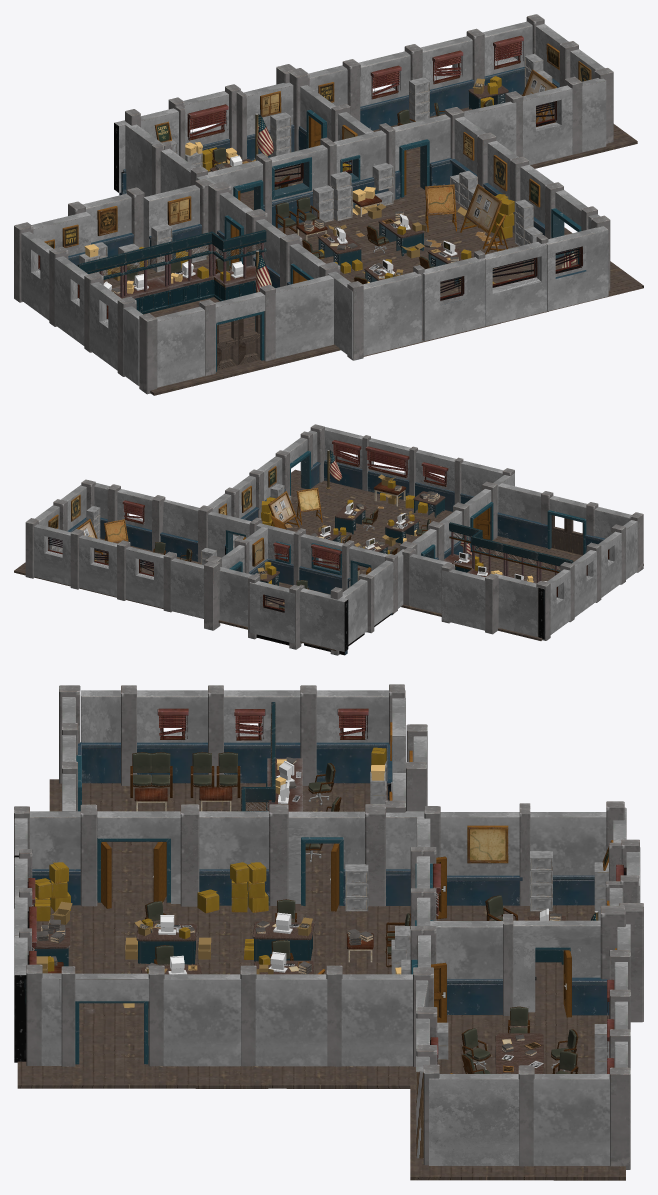
Rendered from station.opt.glb.
3 renders of one model, top to bottom at view 1: azimuth 30°, elevation 25°; view 2: azimuth 150°, elevation 25°; view 3: azimuth 270°, elevation 25°, orthographic. The views are drawn at different scales.
Visible parts, largest first — view 1: Station; view 2: Station; view 3: Station.
Boxes of the visible parts, x1,y1,x2,y2 form: Station: (14, 14, 643, 395); Station: (14, 424, 643, 655); Station: (14, 684, 643, 1180).
Bounding box in the file's own units: 31.82 × 4.1 × 21.12.
Materials: 18 (16 with a texture image).
